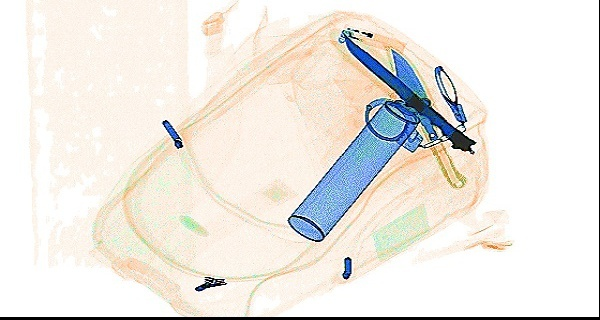handcuffs: (363, 63, 466, 149)
knife: (343, 31, 479, 155), (385, 44, 466, 189)
lighter: (340, 18, 408, 55)
pressure: (286, 96, 419, 243)
